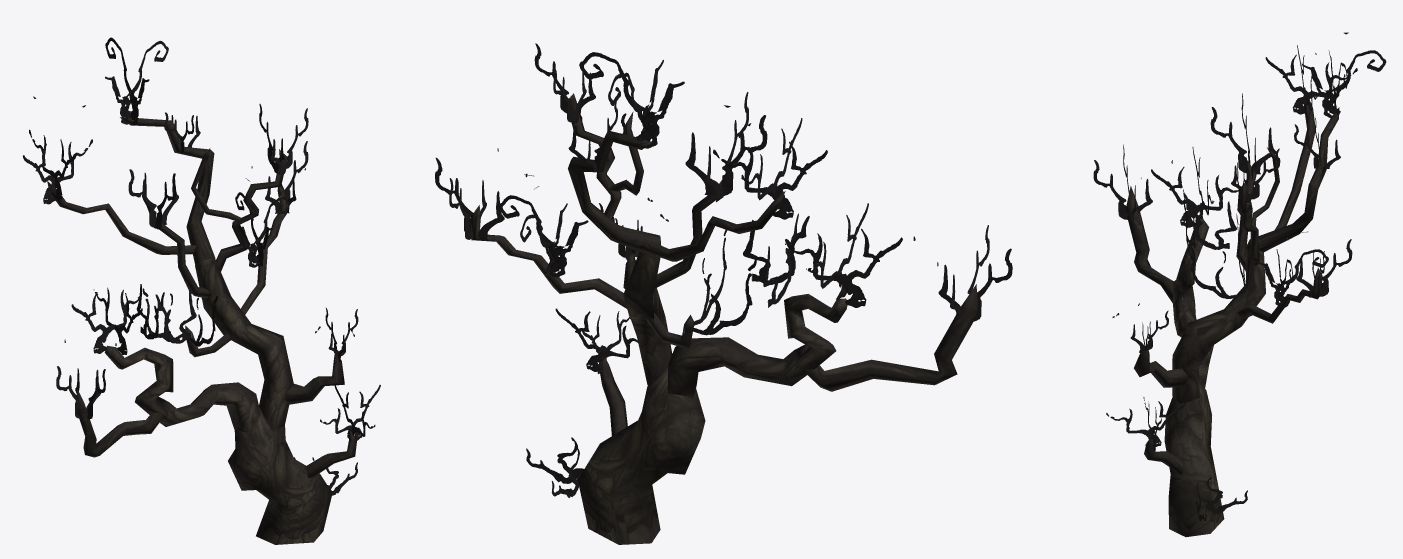
Rendered from huoguankushu1.FBX.
The picture shows the model from 3 angles, left to right: view 1: azimuth 30°, elevation 25°; view 2: azimuth 150°, elevation 25°; view 3: azimuth 270°, elevation 25°; orthographic projection. The views are drawn at different scales.
Visible parts, largest first — view 1: huoguankushu01; view 2: huoguankushu01; view 3: huoguankushu01.
Boxes of the visible parts, box(x1,y1,x2,y2) form: huoguankushu01: box(23, 37, 380, 544); huoguankushu01: box(435, 43, 1012, 544); huoguankushu01: box(1093, 32, 1386, 537).
Bounding box in the file's own units: 934 × 680 × 1063.
